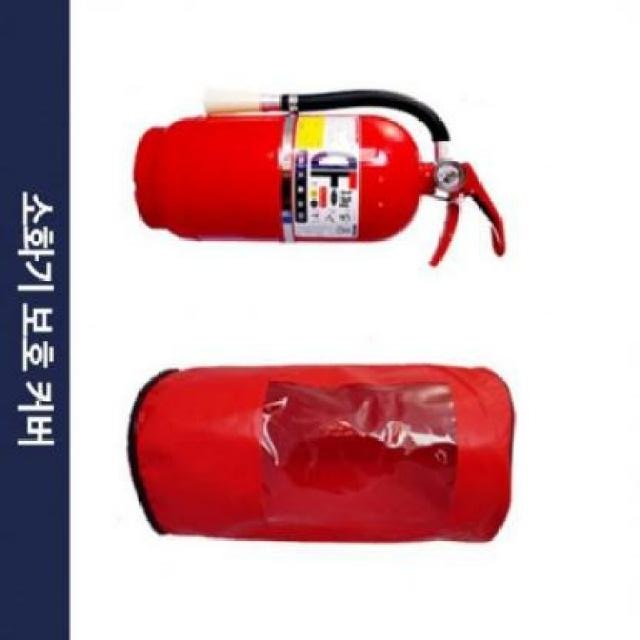fire extinguisher: (131, 88, 507, 268)
